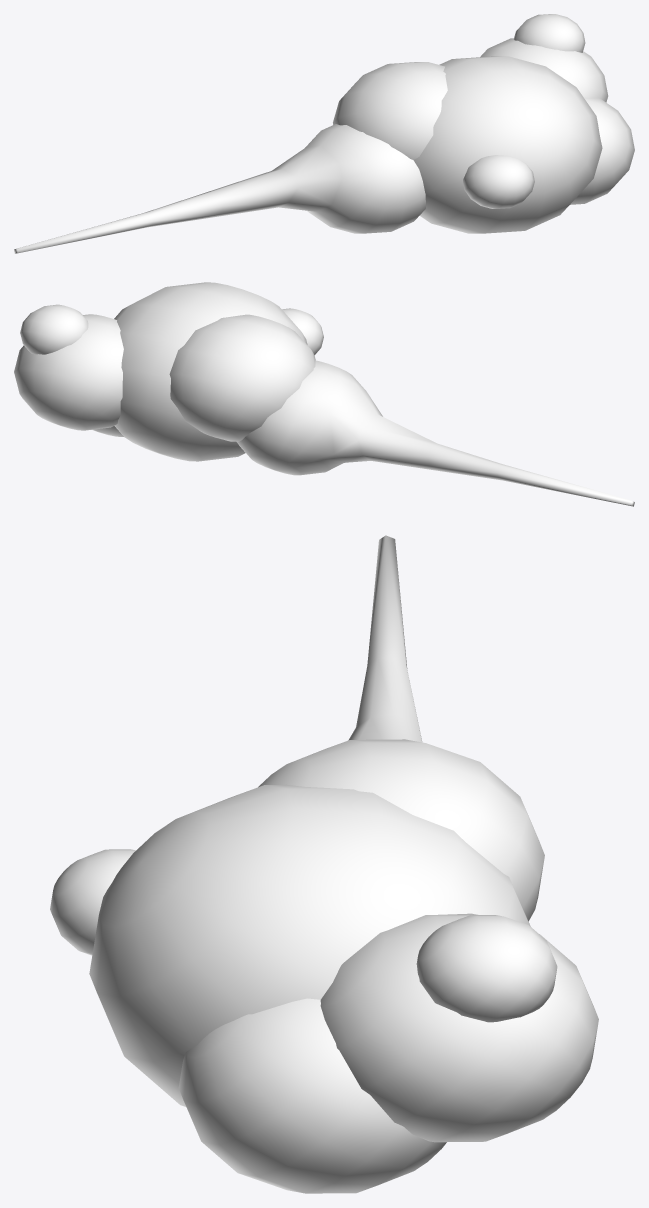
File: cloud_small.FBX
3 views of the same model, one above another, from view 1: azimuth 30°, elevation 25°; view 2: azimuth 150°, elevation 25°; view 3: azimuth 270°, elevation 25° (orthographic). The views are drawn at different scales.
Visible parts, largest first — view 1: cloud_small; view 2: cloud_small; view 3: cloud_small.
Boxes of the visible parts, left/top/right/bottom form: cloud_small: left=14, top=14, right=634, bottom=253; cloud_small: left=14, top=282, right=634, bottom=506; cloud_small: left=50, top=535, right=598, bottom=1193.
Bounding box in the file's own units: 293 × 71.82 × 118.
